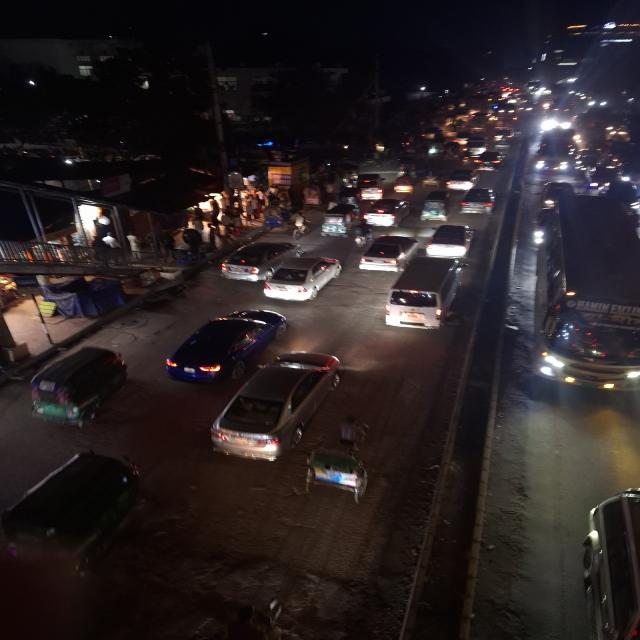bicycle: (280, 211, 319, 241)
bus: (538, 190, 640, 399)
car: (212, 350, 341, 467), (164, 304, 286, 380), (386, 254, 466, 338), (264, 250, 346, 308), (218, 229, 306, 282), (359, 233, 415, 274), (422, 224, 482, 262), (457, 185, 499, 217), (367, 196, 411, 226), (471, 149, 508, 173), (357, 175, 385, 198)
cng: (7, 452, 146, 576), (25, 343, 129, 432), (319, 203, 357, 240), (418, 192, 453, 222)
rickshaw: (305, 410, 379, 516), (420, 165, 440, 190), (395, 175, 412, 195)
truck: (538, 136, 574, 176)
